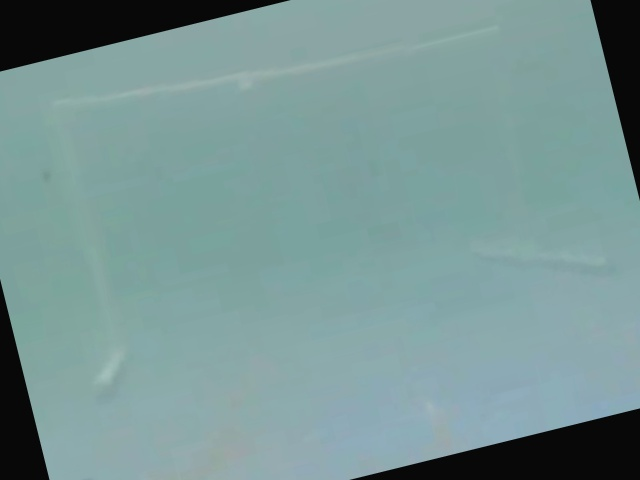gate: (18, 19, 620, 403)
